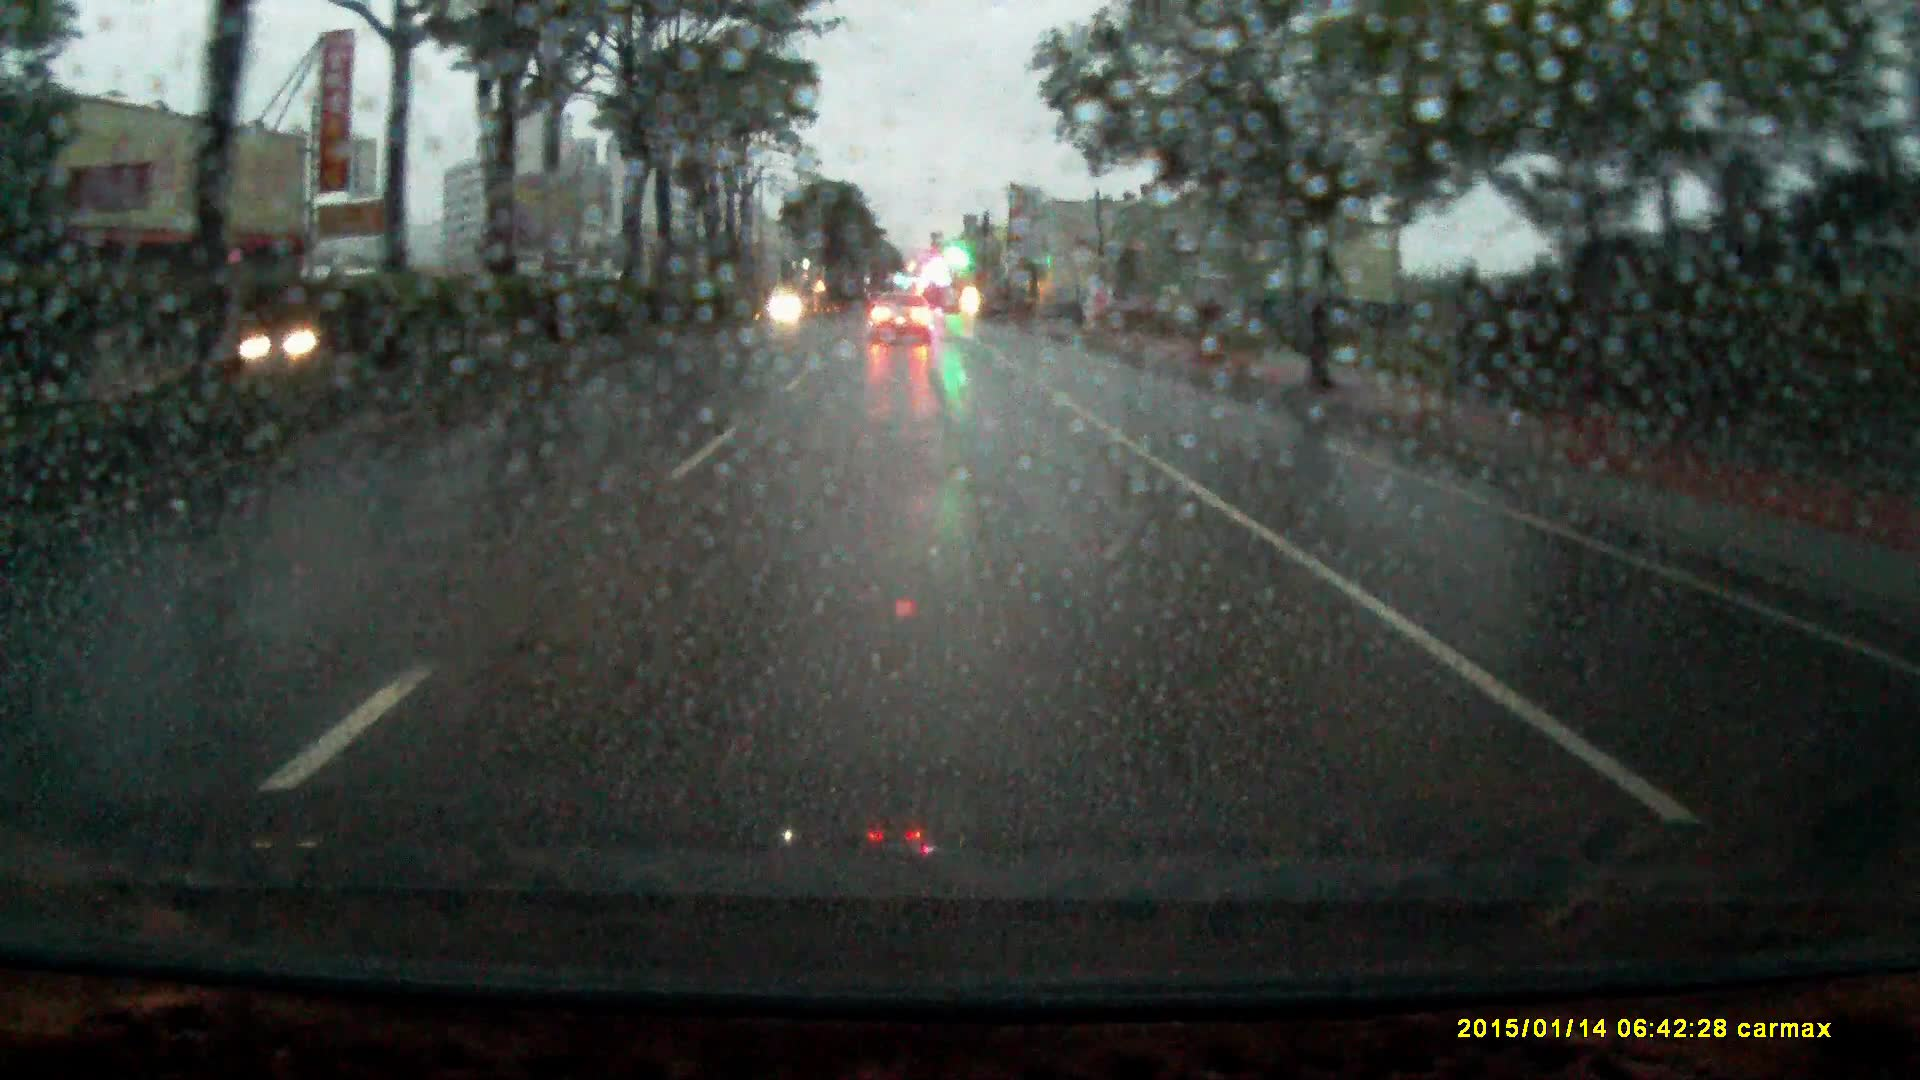vehicle: (873, 295, 935, 342)
